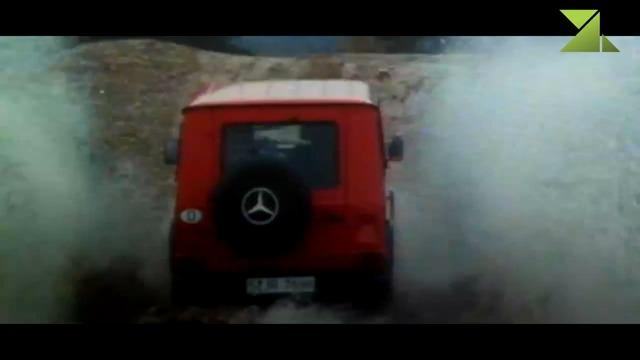MIL_HMMWV: (163, 77, 404, 315)
